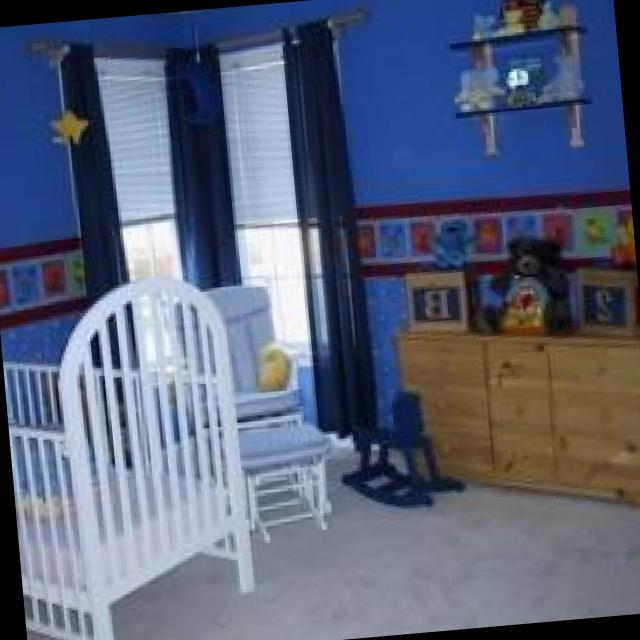crib: (0, 246, 265, 640)
cupboard: (393, 309, 640, 533)
curtains: (280, 13, 384, 440)
shelves: (447, 6, 598, 157)
windows: (215, 34, 318, 366)
